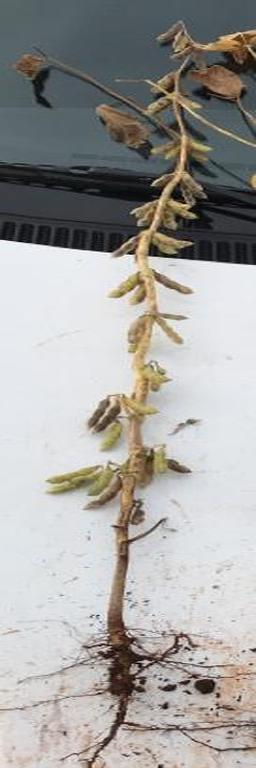pod: (156, 264, 198, 296), (154, 322, 187, 347), (101, 419, 126, 451), (123, 397, 158, 414), (166, 458, 192, 476), (153, 446, 168, 476)
soy: (19, 19, 251, 713)
